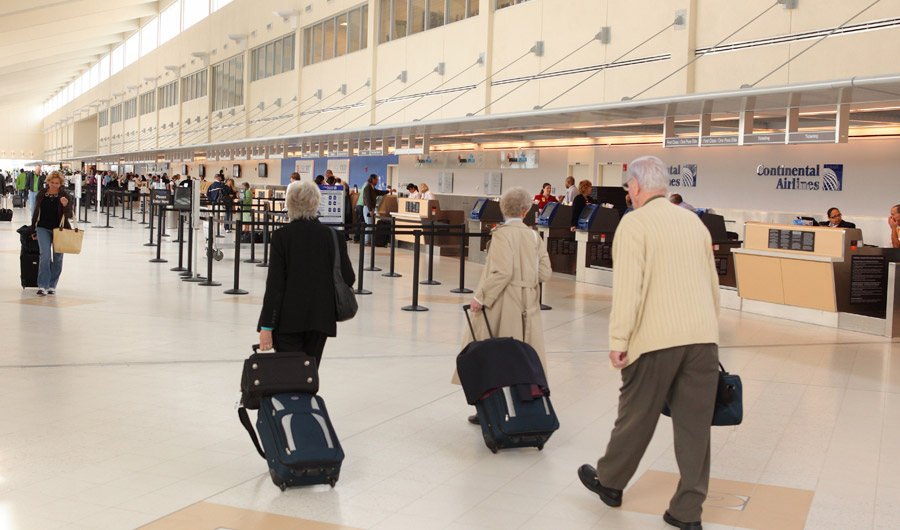bag: (455, 337, 550, 391), (51, 208, 85, 258)
luggage: (453, 302, 566, 462), (241, 344, 349, 495), (241, 349, 321, 399)
people: (582, 153, 751, 530), (457, 182, 566, 389), (253, 179, 366, 368), (24, 168, 74, 299)
